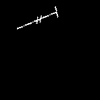treble_crochet: (17, 7, 57, 28)
